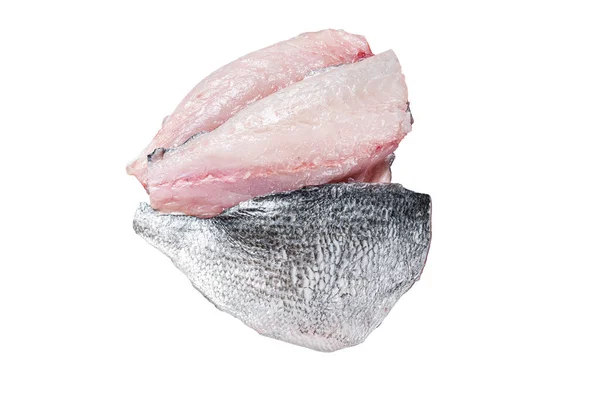bream-fish: (124, 29, 415, 219)
